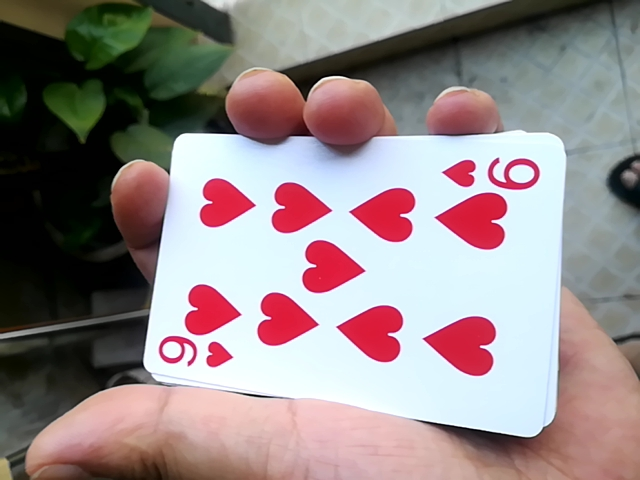hx 9: (136, 127, 570, 435)
